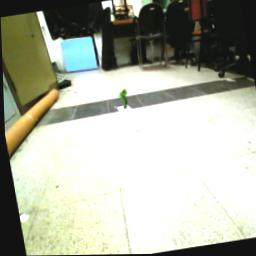herb: (117, 88, 131, 111)
